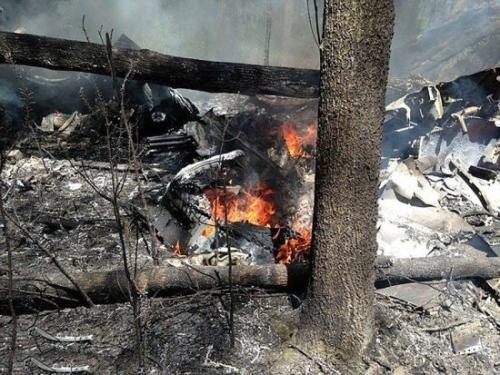fire: (204, 183, 300, 257), (208, 182, 275, 228), (279, 119, 319, 156), (171, 239, 183, 255)
